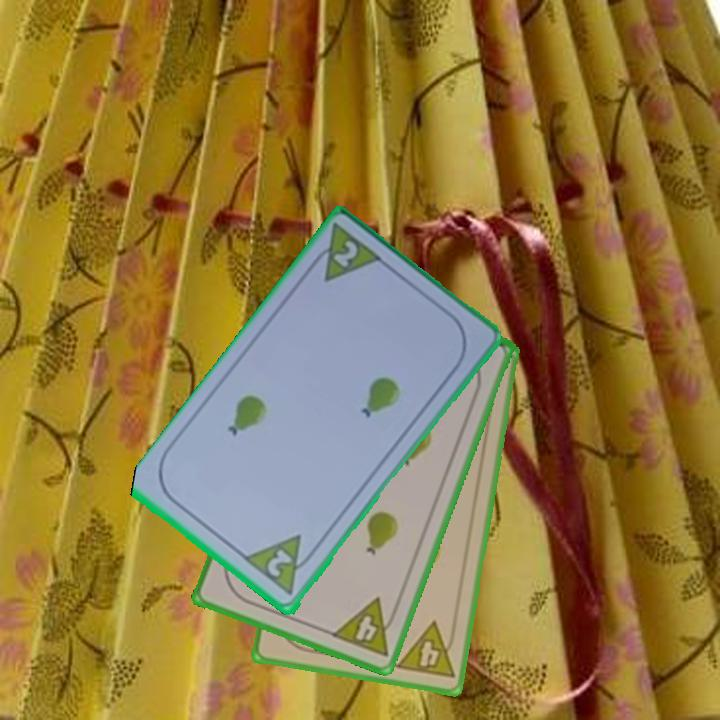2p: (304, 221, 387, 286), (242, 531, 320, 600)
4p: (328, 594, 403, 660), (392, 618, 460, 682)
